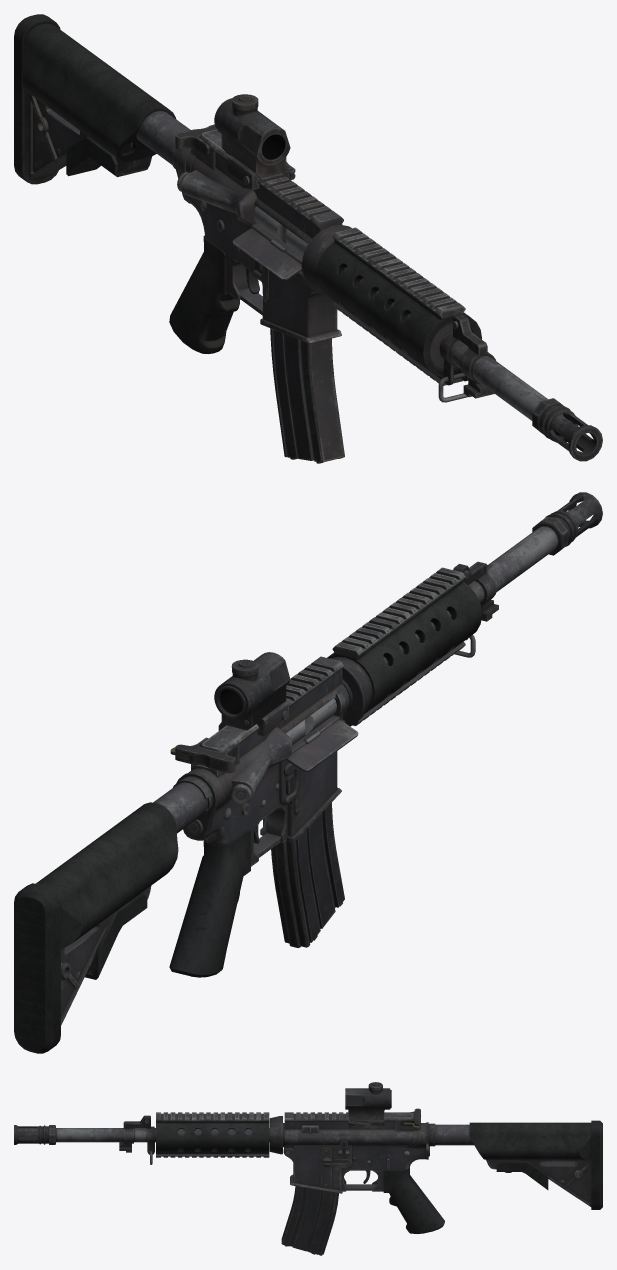
The model's file is M4-Carbine.fbx.
3 renders of one model, top to bottom at view 1: azimuth 30°, elevation 25°; view 2: azimuth 150°, elevation 25°; view 3: azimuth 270°, elevation 25°, orthographic. The views are drawn at different scales.
Parts seen in each view (by area): view 1: base, clip, scope, lid, bolt, handle; view 2: base, clip, scope, lid, handle, bolt; view 3: base, clip, scope.
Boxes of the visible parts, x1,y1,x2,y2 form: base: (14,14,602,461); clip: (270,328,344,463); scope: (214,94,295,189); lid: (232,228,301,280); bolt: (254,206,306,256); handle: (175,124,216,156); base: (14,492,602,1053); clip: (271,802,344,947); scope: (214,652,290,736); lid: (286,719,358,772); handle: (175,737,238,773); bolt: (286,698,336,745); base: (14,1112,602,1233); clip: (281,1186,338,1255); scope: (345,1082,391,1127).
Size of the model in its own units: 7.58 by 32.04 by 101.
